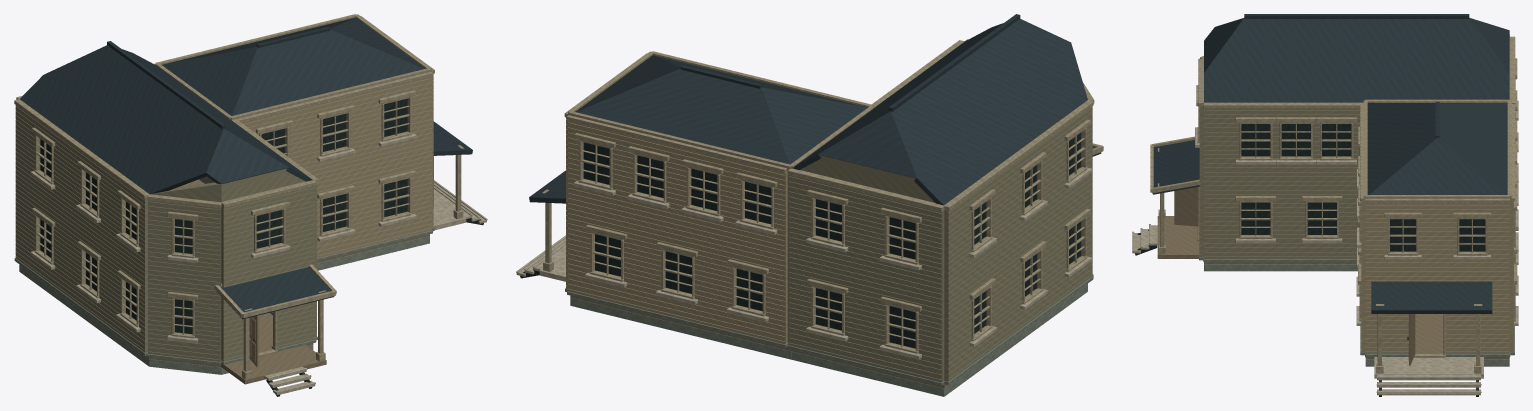
3 views of the same model, side by side, from view 1: azimuth 30°, elevation 25°; view 2: azimuth 150°, elevation 25°; view 3: azimuth 270°, elevation 25° (orthographic). The views are drawn at different scales.
Parts seen in each view (by area): view 1: A011-11_02_Clapboard, A011-11_11_Roof_Jerkinhead, A011-11_11_Roof_East_Hip, A011-11_04_Architectural_Trim, A011-11_03_Window_Door_Frames, A011-11_06_Glazing, A011-11_01_Wall_Shell, A011-11_07_Floors, A011-11_12_Roof_Edges, A011-11_11_Roof_West_Porch, A011-11_00_Foundation, A011-11_08_Stairs (+3 smaller); view 2: A011-11_02_Clapboard, A011-11_11_Roof_Jerkinhead, A011-11_11_Roof_East_Hip, A011-11_04_Architectural_Trim, A011-11_03_Window_Door_Frames, A011-11_06_Glazing, A011-11_01_Wall_Shell, A011-11_00_Foundation, A011-11_12_Roof_Edges, A011-11_07_Floors, A011-11_11_Roof_East_Porch, A011-11_08_Stairs (+1 smaller); view 3: A011-11_02_Clapboard, A011-11_11_Roof_Jerkinhead, A011-11_11_Roof_East_Hip, A011-11_04_Architectural_Trim, A011-11_06_Glazing, A011-11_03_Window_Door_Frames, A011-11_07_Floors, A011-11_11_Roof_East_Porch, A011-11_12_Roof_Edges, A011-11_08_Stairs, A011-11_01_Wall_Shell, A011-11_11_Roof_West_Porch (+4 smaller).
Boxes of the visible parts, x1,y1,x2,y2 form: A011-11_02_Clapboard: [15, 74, 433, 361]; A011-11_11_Roof_Jerkinhead: [20, 41, 312, 194]; A011-11_11_Roof_East_Hip: [162, 17, 425, 115]; A011-11_04_Architectural_Trim: [14, 16, 434, 365]; A011-11_03_Window_Door_Frames: [34, 96, 411, 356]; A011-11_06_Glazing: [40, 98, 407, 334]; A011-11_01_Wall_Shell: [39, 76, 432, 361]; A011-11_07_Floors: [145, 179, 466, 384]; A011-11_12_Roof_Edges: [155, 14, 431, 318]; A011-11_11_Roof_West_Porch: [216, 267, 334, 319]; A011-11_00_Foundation: [19, 236, 429, 374]; A011-11_08_Stairs: [264, 180, 487, 395]; A011-11_02_Clapboard: [566, 106, 1092, 382]; A011-11_11_Roof_Jerkinhead: [793, 14, 1087, 205]; A011-11_11_Roof_East_Hip: [575, 55, 867, 164]; A011-11_04_Architectural_Trim: [564, 39, 1094, 385]; A011-11_03_Window_Door_Frames: [578, 128, 1087, 353]; A011-11_06_Glazing: [583, 132, 1080, 348]; A011-11_01_Wall_Shell: [566, 118, 1082, 381]; A011-11_00_Foundation: [570, 284, 1087, 396]; A011-11_12_Roof_Edges: [568, 51, 1103, 171]; A011-11_07_Floors: [539, 251, 947, 388]; A011-11_11_Roof_East_Porch: [529, 170, 565, 203]; A011-11_08_Stairs: [516, 235, 566, 276]; A011-11_02_Clapboard: [1199, 106, 1513, 353]; A011-11_11_Roof_Jerkinhead: [1204, 14, 1509, 102]; A011-11_11_Roof_East_Hip: [1367, 101, 1507, 194]; A011-11_04_Architectural_Trim: [1195, 35, 1518, 357]; A011-11_06_Glazing: [1241, 124, 1485, 251]; A011-11_03_Window_Door_Frames: [1197, 79, 1515, 357]; A011-11_07_Floors: [1157, 216, 1509, 378]; A011-11_11_Roof_East_Porch: [1371, 281, 1492, 313]; A011-11_12_Roof_Edges: [1150, 99, 1511, 200]; A011-11_08_Stairs: [1132, 224, 1481, 395]; A011-11_01_Wall_Shell: [1200, 106, 1513, 352]; A011-11_11_Roof_West_Porch: [1152, 140, 1199, 194].
Size of the model in its own units: 15.99 by 8.62 by 13.4.
Materials: 11 (11 with a texture image).
